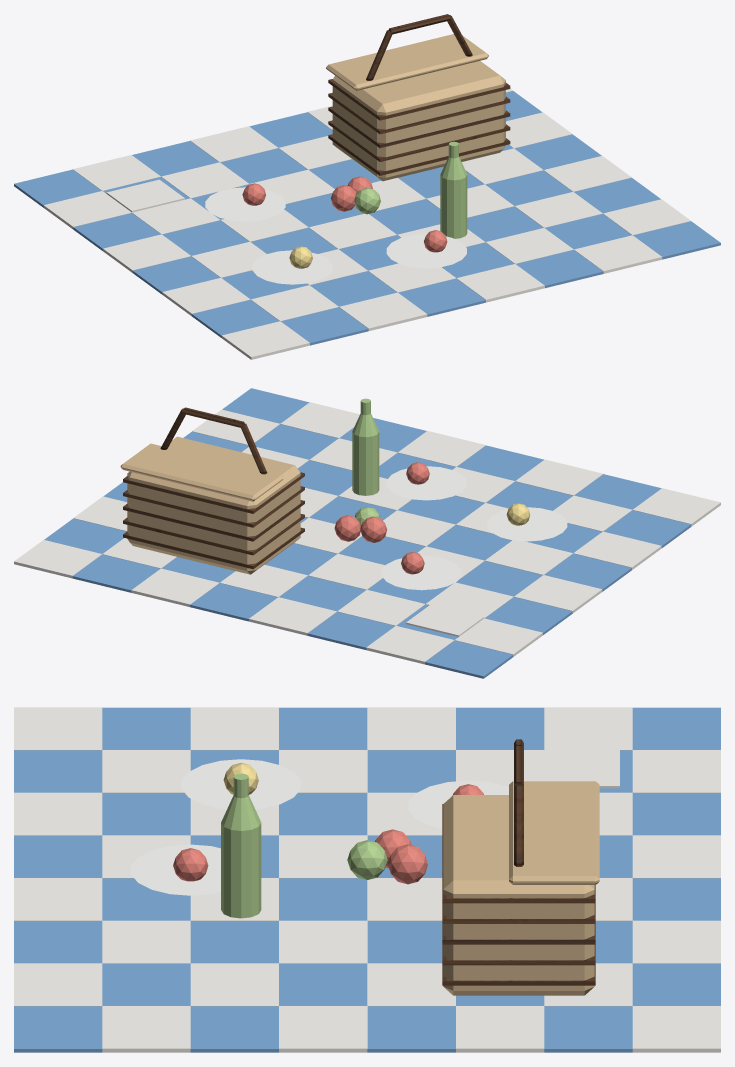
File: blanket_b.glb
3 views of the same model, one above another, from view 1: azimuth 30°, elevation 25°; view 2: azimuth 150°, elevation 25°; view 3: azimuth 270°, elevation 25° (orthographic). The views are drawn at different scales.
Visible parts, largest first — view 1: blanket_b_paper, blanket_b_flag_b, blanket_b_basket, blanket_b_porcelain, blanket_b_dkwood, blanket_b_food_g, blanket_b_food_r; view 2: blanket_b_paper, blanket_b_flag_b, blanket_b_basket, blanket_b_porcelain, blanket_b_dkwood, blanket_b_food_g, blanket_b_food_r; view 3: blanket_b_paper, blanket_b_flag_b, blanket_b_basket, blanket_b_porcelain, blanket_b_dkwood, blanket_b_food_g, blanket_b_food_r, blanket_b_food_y.
Part boxes in pixels (left/top/right/bottom): blanket_b_paper: left=43, top=88, right=690, bottom=359; blanket_b_flag_b: left=14, top=91, right=720, bottom=345; blanket_b_basket: left=326, top=34, right=505, bottom=181; blanket_b_porcelain: left=205, top=187, right=466, bottom=284; blanket_b_dkwood: left=328, top=14, right=510, bottom=175; blanket_b_food_g: left=354, top=141, right=467, bottom=238; blanket_b_food_r: left=242, top=176, right=447, bottom=252; blanket_b_paper: left=14, top=402, right=720, bottom=664; blanket_b_flag_b: left=44, top=388, right=691, bottom=678; blanket_b_basket: left=120, top=436, right=300, bottom=574; blanket_b_porcelain: left=381, top=466, right=567, bottom=590; blanket_b_dkwood: left=123, top=407, right=304, bottom=569; blanket_b_food_g: left=352, top=398, right=380, bottom=525; blanket_b_food_r: left=334, top=462, right=429, bottom=574; blanket_b_paper: left=14, top=707, right=720, bottom=1052; blanket_b_flag_b: left=14, top=707, right=720, bottom=1052; blanket_b_basket: left=443, top=781, right=599, bottom=995; blanket_b_porcelain: left=131, top=759, right=508, bottom=895; blanket_b_dkwood: left=442, top=739, right=595, bottom=985; blanket_b_food_g: left=221, top=773, right=387, bottom=918; blanket_b_food_r: left=173, top=784, right=483, bottom=884; blanket_b_food_y: left=223, top=762, right=258, bottom=794.
Size of the model in its own units: 1.6 by 0.4287 by 1.4.
8 materials, 1 textured.
